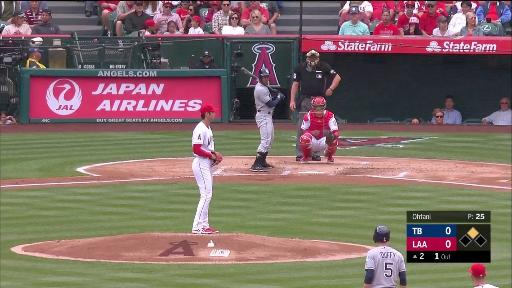pitcher: (193, 103, 222, 234)
